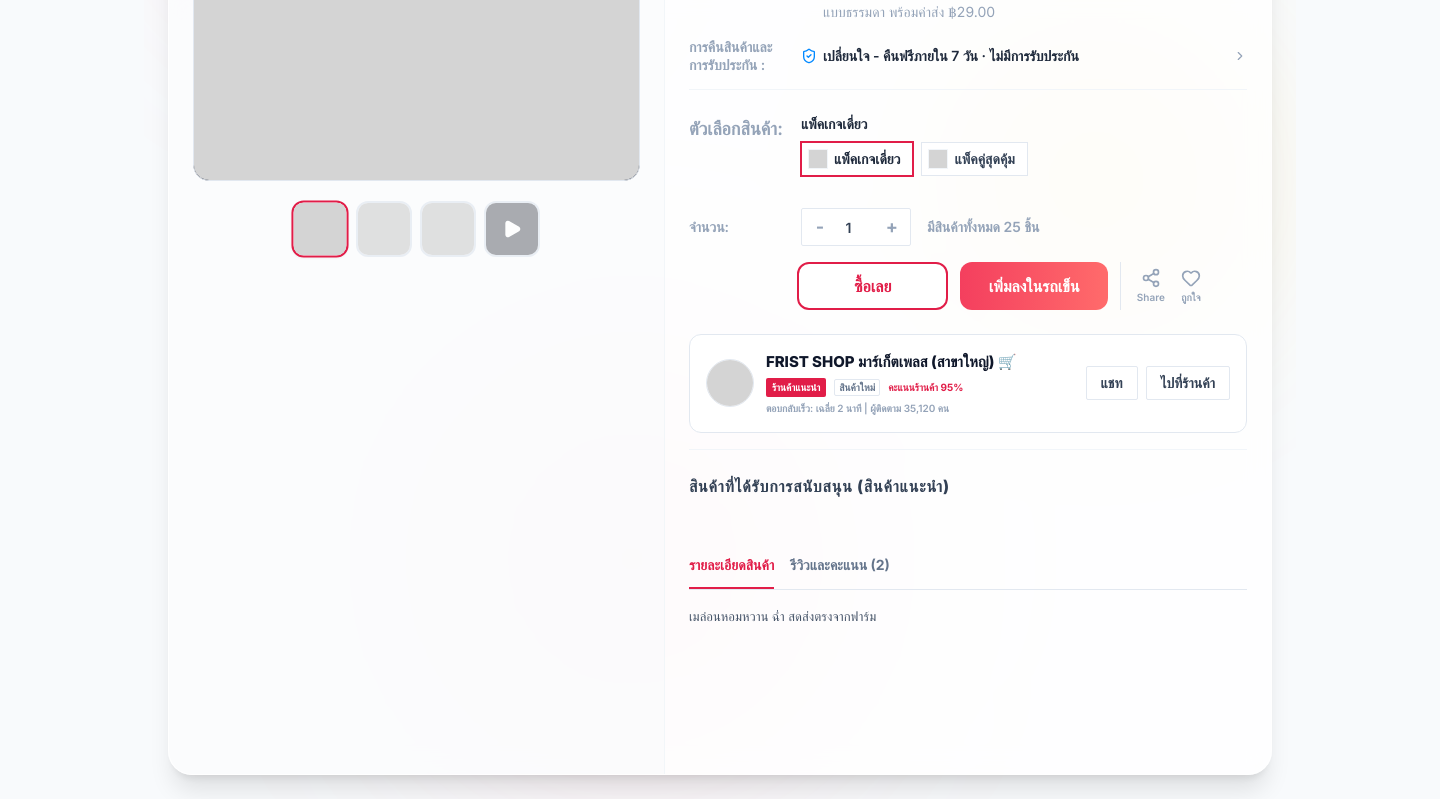
Test case: ProductDetailPage - Product Reviews & Ratings System › switches to reviews tab and renders star breakdown summary and reviews
This screenshot has width=1440, height=799.
(page scrolled)
Click the button "รีวิวและคะแนน (2)": click(840, 571) [790,554,890,588]
(page scrolled)
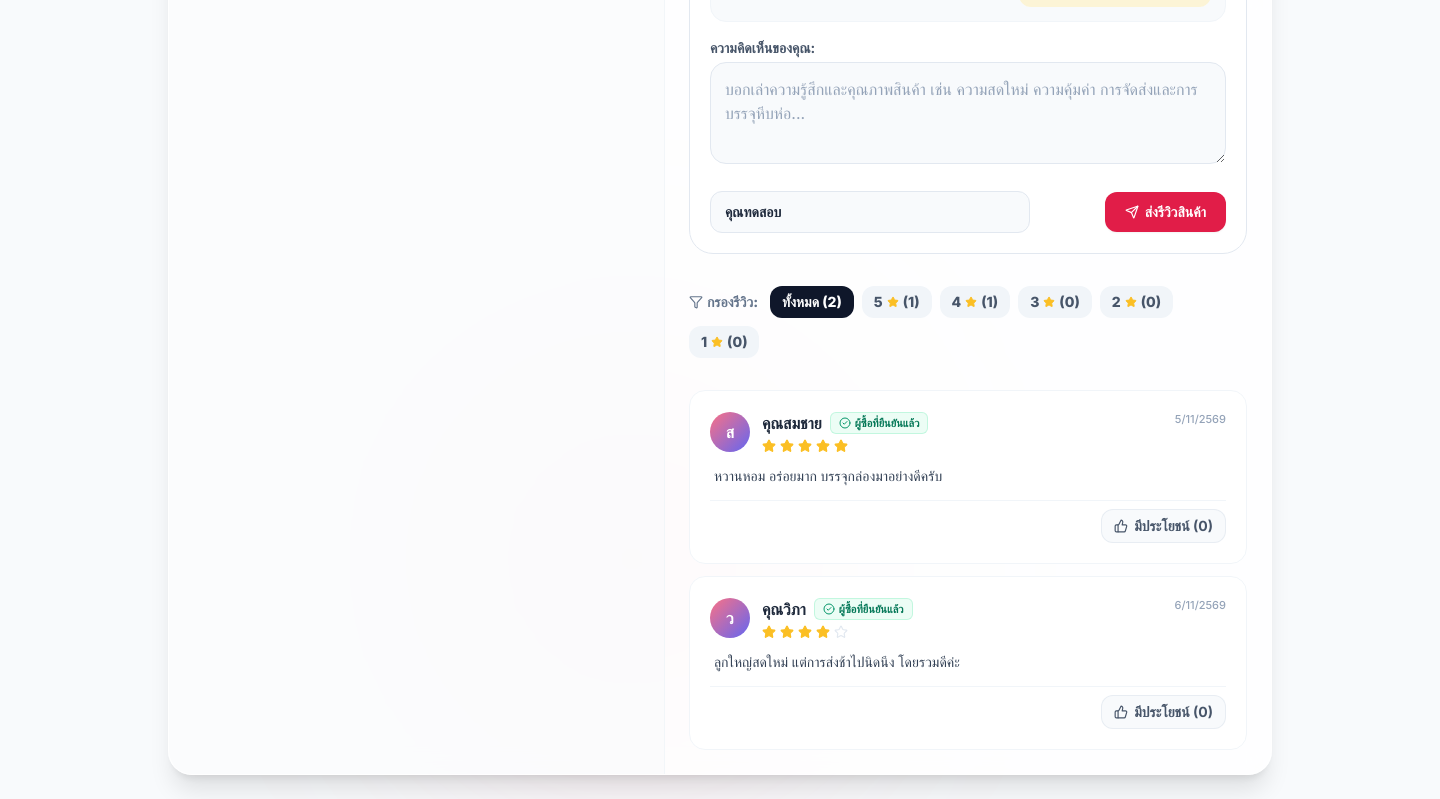
Expected: the text "หวานหอม อร่อยมาก บรรจุกล่องมาอย่างดีครับ" is shown, [714,467,942,484]
Expected: the text "ลูกใหญ่สดใหม่ แต่การส่งช้าไปนิดนึง โดยรวมดีค่ะ" is shown, [714,653,960,670]
Expected: the text "ผู้ซื้อที่ยืนยันแล้ว" is shown 2 times, [830,412,928,434]; [814,598,913,620]
